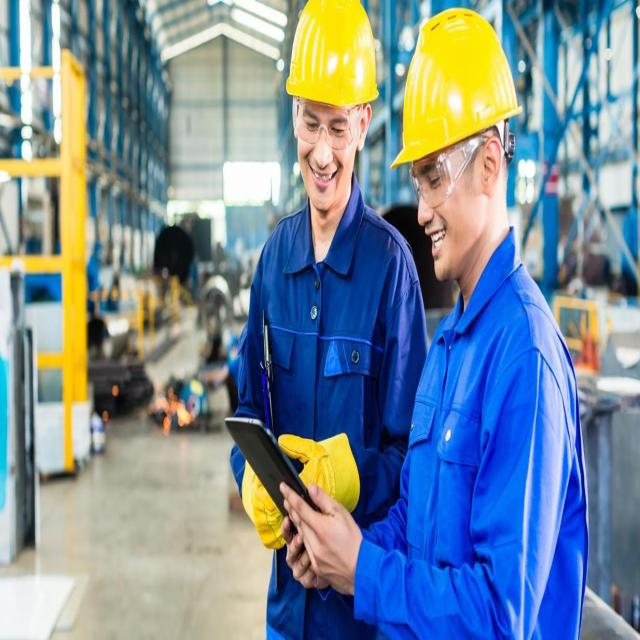Safety-Helmet: (392, 8, 520, 172), (284, 1, 382, 112)
